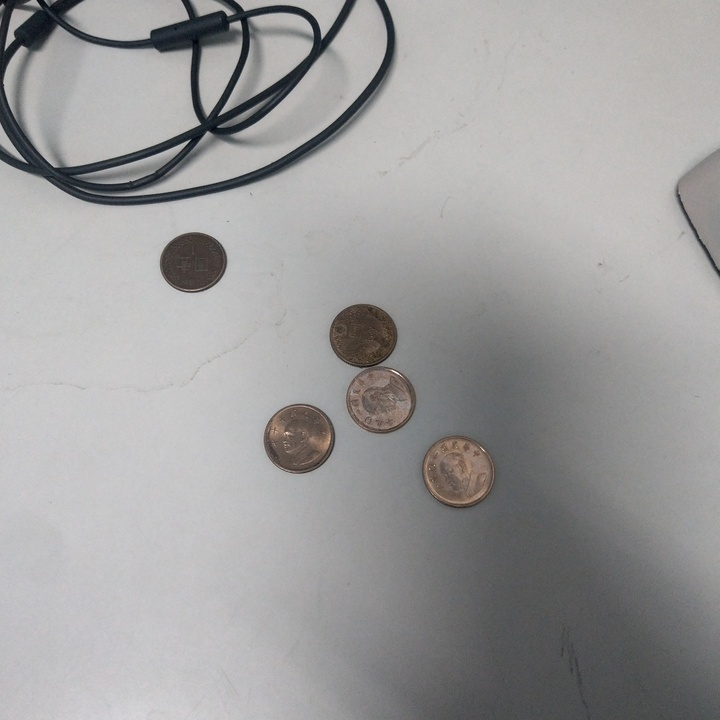1 dollar: (420, 436, 497, 510), (264, 403, 336, 477), (344, 367, 417, 433), (159, 232, 228, 297), (330, 303, 400, 366)
